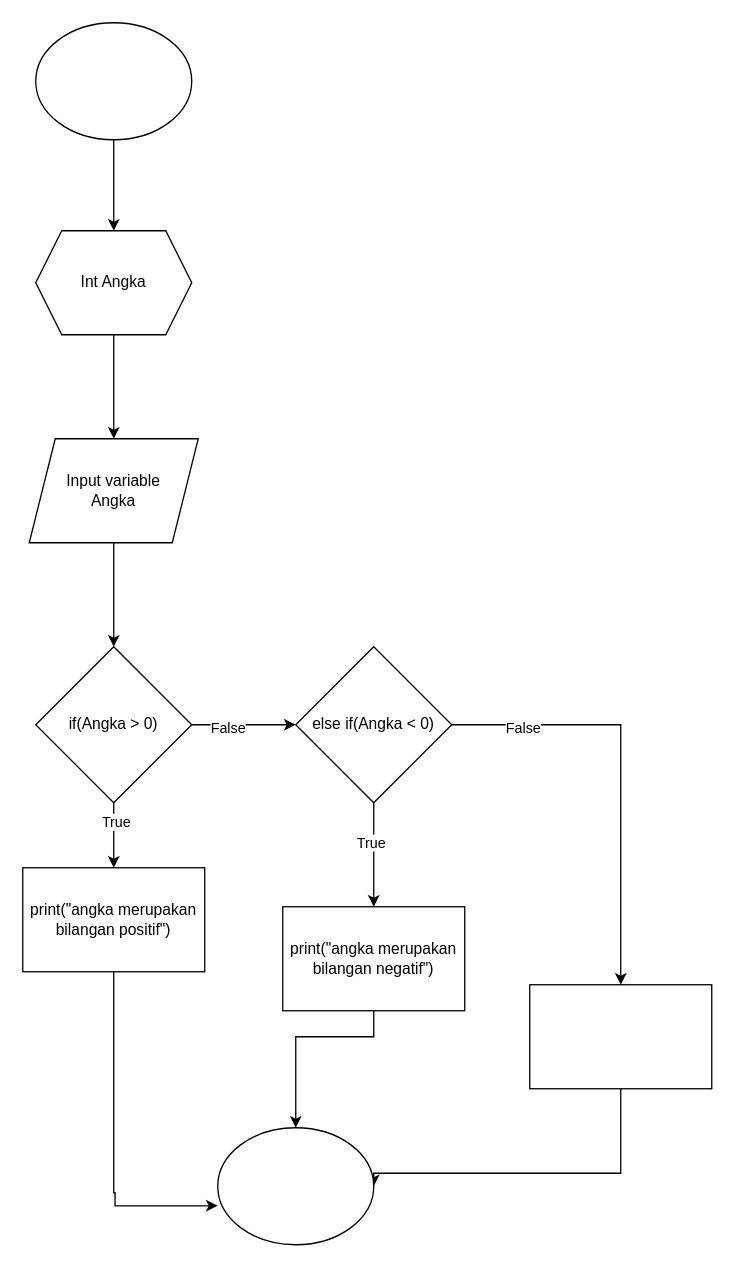
This 735x1268 diagram has some shape labels left out. Each missing label, with the centre of its shape:
End: (295,1185)
print("angka merupakan bilangan 0"): (620,1036)
Start: (113,80)
